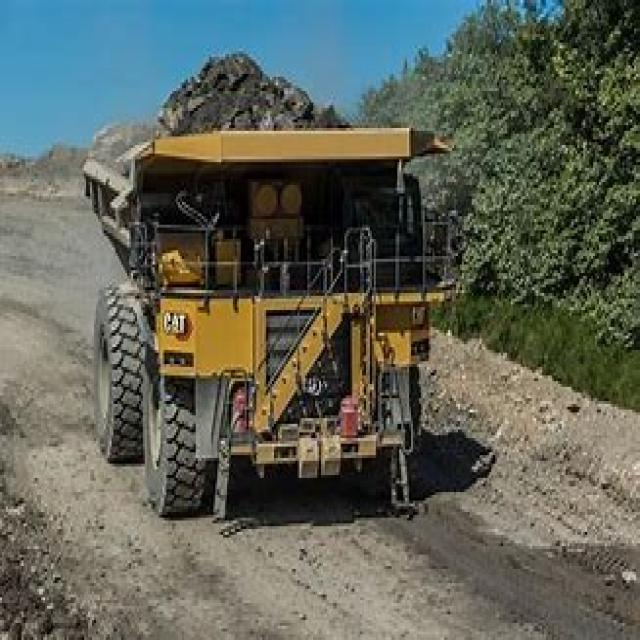dump_truck: (61, 43, 456, 532)
